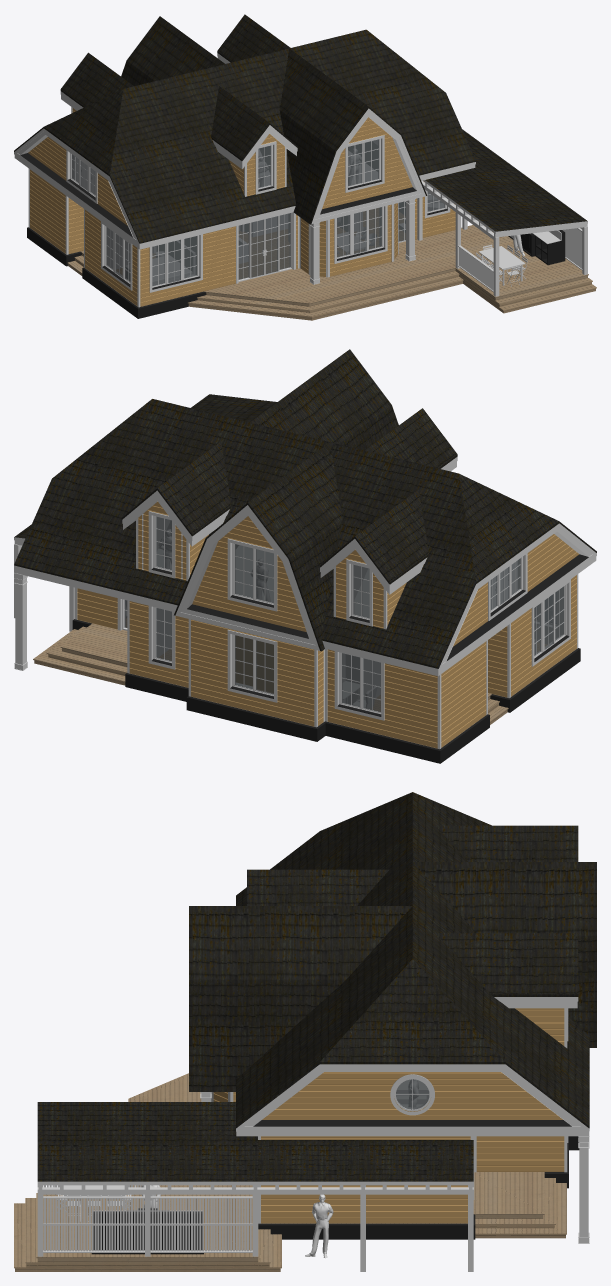
The model's file is suburban_house.glb.
The picture shows the model from 3 angles, top to bottom: view 1: azimuth 30°, elevation 25°; view 2: azimuth 150°, elevation 25°; view 3: azimuth 270°, elevation 25°; orthographic projection. The views are drawn at different scales.
Parts seen in each view (by area): view 1: roof, white, floor, siding, glass, gray; view 2: roof, siding, white, glass, gray, floor; view 3: roof, white, siding, floor, gray, glass.
Part boxes in pixels (x1=…): roof: x1=14, y1=14, x2=587, y2=243; white: x1=14, y1=53, x2=587, y2=307; floor: x1=30, y1=208, x2=596, y2=320; siding: x1=28, y1=108, x2=455, y2=306; glass: x1=72, y1=139, x2=444, y2=286; gray: x1=20, y1=153, x2=565, y2=318; roof: x1=14, y1=349, x2=596, y2=668; siding: x1=77, y1=501, x2=579, y2=748; white: x1=14, y1=456, x2=596, y2=749; glass: x1=124, y1=516, x2=563, y2=712; gray: x1=72, y1=554, x2=588, y2=763; floor: x1=33, y1=618, x2=576, y2=748; roof: x1=37, y1=792, x2=596, y2=1181; white: x1=37, y1=997, x2=589, y2=1271; siding: x1=213, y1=1008, x2=564, y2=1223; floor: x1=14, y1=1073, x2=566, y2=1271; gray: x1=91, y1=1120, x2=579, y2=1254; glass: x1=396, y1=1079, x2=429, y2=1109.
Bounding box in the file's own units: 16.43 × 7.45 × 15.58.
Materials: 6 (2 with a texture image).
